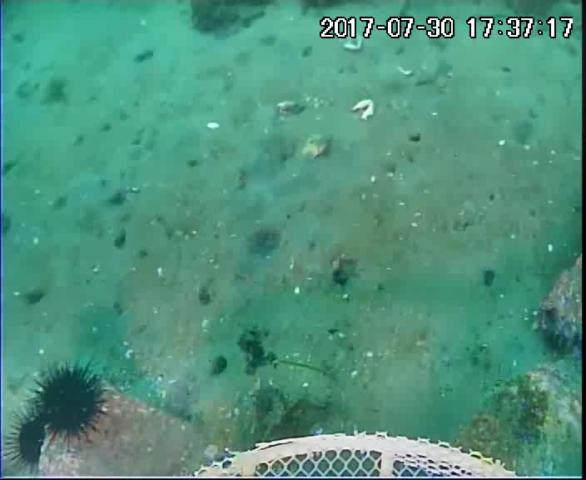echinus: (37, 365, 106, 440), (19, 417, 50, 467)
